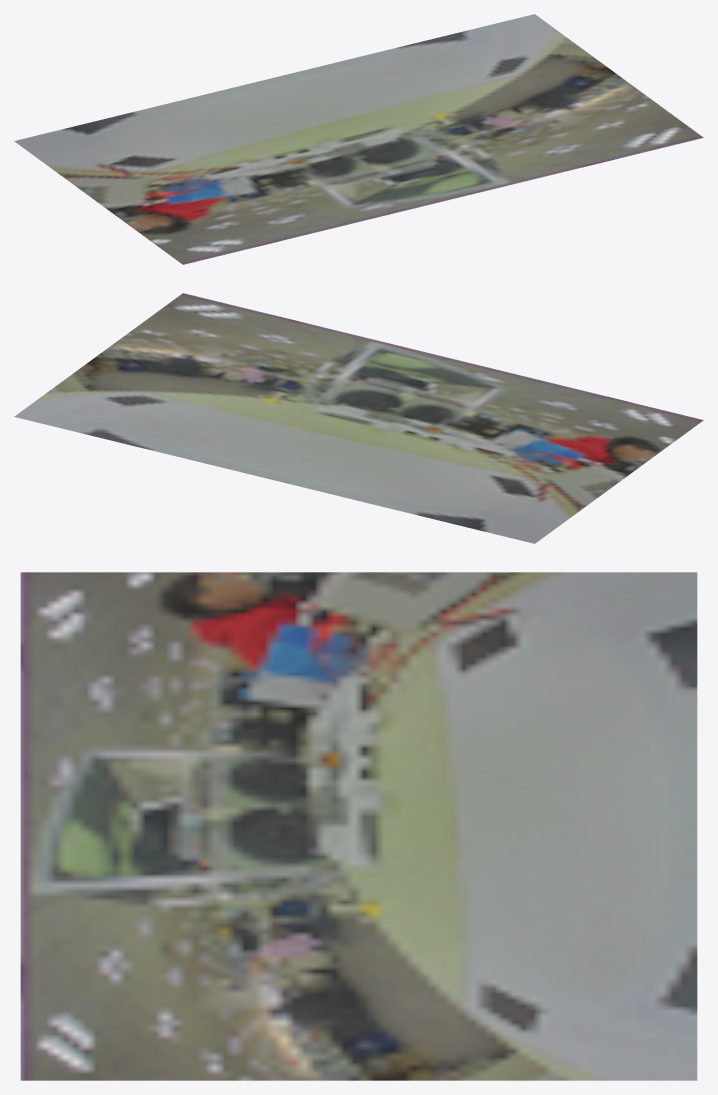
The model's file is plane_single.gltf.
3 views of the same model, one above another, from view 1: azimuth 30°, elevation 25°; view 2: azimuth 150°, elevation 25°; view 3: azimuth 270°, elevation 25° (orthographic). The views are drawn at different scales.
Parts seen in each view (by area): view 1: front_only; view 2: front_only; view 3: front_only.
Part boxes in pixels (<box>): front_only: <box>14,14,703,264</box>; front_only: <box>14,293,703,543</box>; front_only: <box>20,572,697,1080</box>.
Bounding box in the file's own units: 12.8 × 0 × 7.2.
Materials: 1 (1 with a texture image).
